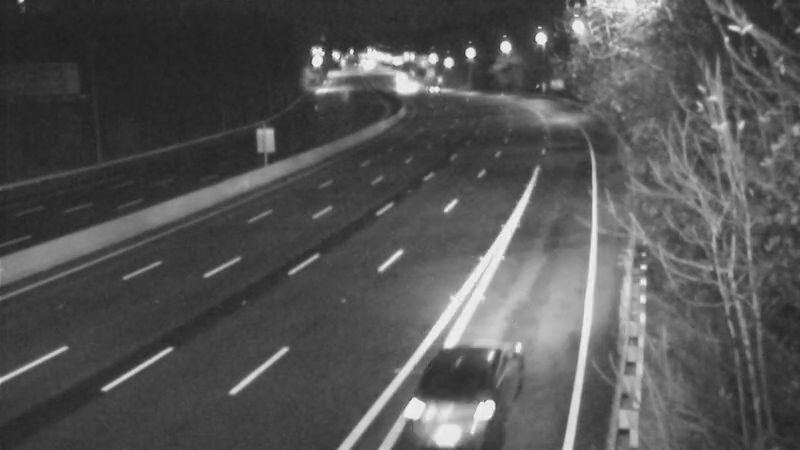vehicle: (393, 345, 503, 450), (409, 64, 459, 114)
